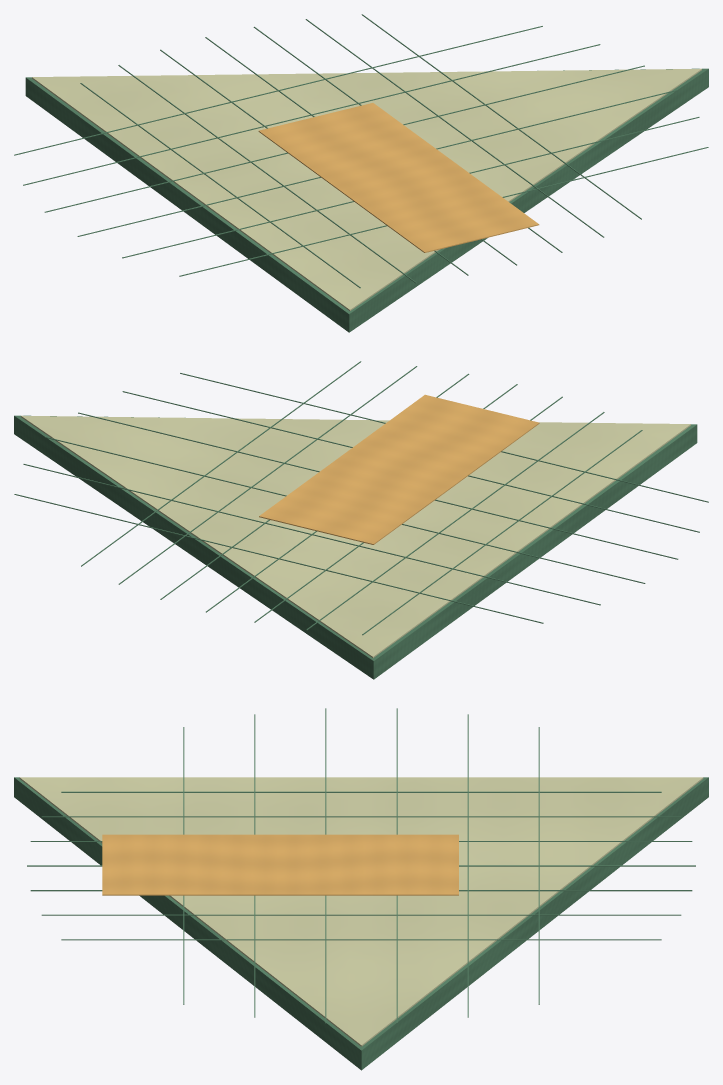
File: atlas100-s001-a07.lod2.glb
3 renders of one model, top to bottom at view 1: azimuth 30°, elevation 25°; view 2: azimuth 150°, elevation 25°; view 3: azimuth 270°, elevation 25°, orthographic. The views are drawn at different scales.
Visible parts, largest first — view 1: atlas100-s001-a07:part-001, atlas100-s001-a07:part-021, atlas100-s001-a07:part-000, atlas100-s001-a07:part-015, atlas100-s001-a07:part-014, atlas100-s001-a07:part-016, atlas100-s001-a07:part-017, atlas100-s001-a07:part-018, atlas100-s001-a07:part-019, atlas100-s001-a07:part-005, atlas100-s001-a07:part-009, atlas100-s001-a07:part-010 (+1 smaller); view 2: atlas100-s001-a07:part-001, atlas100-s001-a07:part-021, atlas100-s001-a07:part-000, atlas100-s001-a07:part-015, atlas100-s001-a07:part-014, atlas100-s001-a07:part-017, atlas100-s001-a07:part-016, atlas100-s001-a07:part-018, atlas100-s001-a07:part-019, atlas100-s001-a07:part-009, atlas100-s001-a07:part-005, atlas100-s001-a07:part-010 (+1 smaller); view 3: atlas100-s001-a07:part-001, atlas100-s001-a07:part-021, atlas100-s001-a07:part-000, atlas100-s001-a07:part-005, atlas100-s001-a07:part-009, atlas100-s001-a07:part-004, atlas100-s001-a07:part-010, atlas100-s001-a07:part-007, atlas100-s001-a07:part-008, atlas100-s001-a07:part-015.
Part boxes in pixels (bbox=[...]): atlas100-s001-a07:part-001: bbox=[32, 68, 701, 310]; atlas100-s001-a07:part-021: bbox=[258, 103, 539, 252]; atlas100-s001-a07:part-000: bbox=[25, 68, 708, 332]; atlas100-s001-a07:part-015: bbox=[23, 44, 600, 185]; atlas100-s001-a07:part-014: bbox=[14, 26, 542, 155]; atlas100-s001-a07:part-016: bbox=[44, 65, 644, 212]; atlas100-s001-a07:part-017: bbox=[77, 89, 677, 236]; atlas100-s001-a07:part-018: bbox=[122, 117, 699, 258]; atlas100-s001-a07:part-019: bbox=[179, 147, 708, 276]; atlas100-s001-a07:part-005: bbox=[118, 65, 416, 283]; atlas100-s001-a07:part-009: bbox=[305, 19, 604, 237]; atlas100-s001-a07:part-010: bbox=[361, 14, 641, 219]; atlas100-s001-a07:part-001: bbox=[21, 415, 690, 657]; atlas100-s001-a07:part-021: bbox=[259, 394, 539, 544]; atlas100-s001-a07:part-000: bbox=[14, 415, 697, 679]; atlas100-s001-a07:part-015: bbox=[23, 464, 600, 605]; atlas100-s001-a07:part-014: bbox=[14, 494, 543, 623]; atlas100-s001-a07:part-017: bbox=[78, 412, 678, 559]; atlas100-s001-a07:part-016: bbox=[45, 436, 645, 583]; atlas100-s001-a07:part-018: bbox=[122, 391, 699, 532]; atlas100-s001-a07:part-019: bbox=[180, 373, 708, 502]; atlas100-s001-a07:part-009: bbox=[118, 366, 417, 584]; atlas100-s001-a07:part-005: bbox=[306, 412, 604, 630]; atlas100-s001-a07:part-010: bbox=[81, 361, 361, 566]; atlas100-s001-a07:part-001: bbox=[19, 777, 703, 1046]; atlas100-s001-a07:part-021: bbox=[102, 834, 458, 895]; atlas100-s001-a07:part-000: bbox=[14, 777, 708, 1070]; atlas100-s001-a07:part-005: bbox=[41, 816, 681, 817]; atlas100-s001-a07:part-009: bbox=[41, 914, 681, 915]; atlas100-s001-a07:part-004: bbox=[61, 791, 661, 792]; atlas100-s001-a07:part-010: bbox=[61, 939, 661, 940]; atlas100-s001-a07:part-007: bbox=[27, 865, 695, 866]; atlas100-s001-a07:part-008: bbox=[30, 890, 692, 891]; atlas100-s001-a07:part-015: bbox=[467, 714, 468, 1017].
Size of the model in its own units: 12.43 by 0.404 by 10.76.
3 materials, 3 textured.
